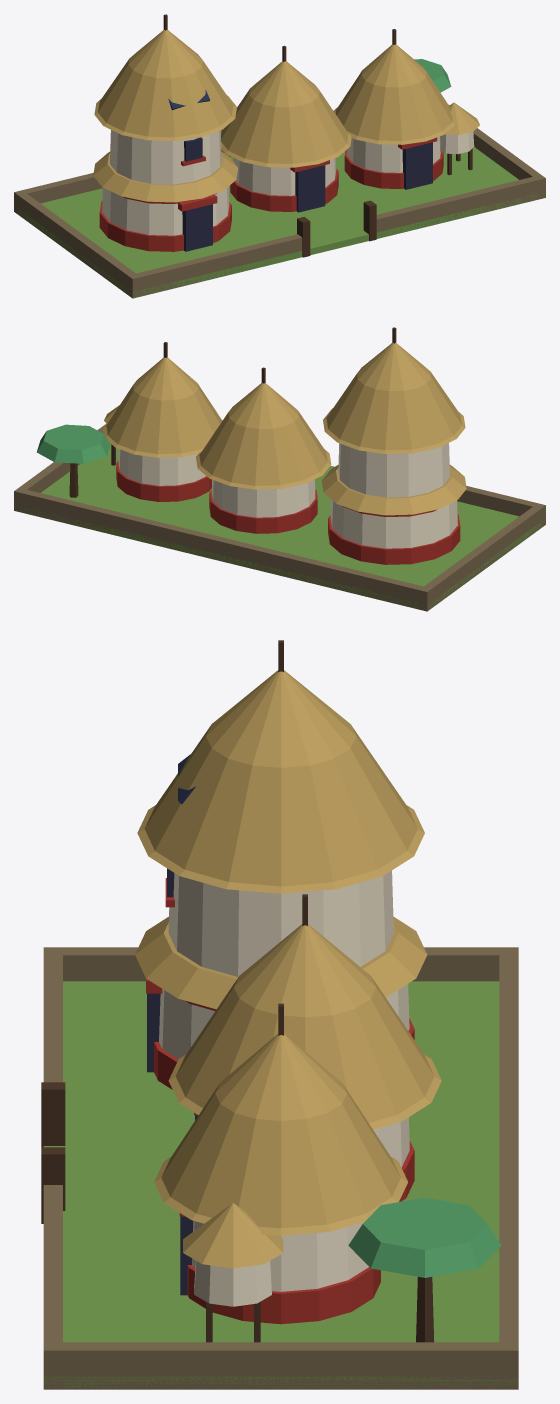
The model's file is house-2x1-2f-third-rondavel-a-solar.glb.
3 views of the same model, one above another, from view 1: azimuth 30°, elevation 25°; view 2: azimuth 150°, elevation 25°; view 3: azimuth 270°, elevation 25° (orthographic). The views are drawn at different scales.
Visible parts, largest first — view 1: house-2x1-2f-third-rondavel-a-solar; view 2: house-2x1-2f-third-rondavel-a-solar; view 3: house-2x1-2f-third-rondavel-a-solar.
Boxes of the visible parts, box(x1,y1,x2,y2) form: house-2x1-2f-third-rondavel-a-solar: box(14, 14, 545, 298); house-2x1-2f-third-rondavel-a-solar: box(14, 327, 545, 611); house-2x1-2f-third-rondavel-a-solar: box(41, 640, 518, 1389).
Size of the model in its own units: 1.99 by 1 by 0.995.
Materials: 1 (1 with a texture image).
